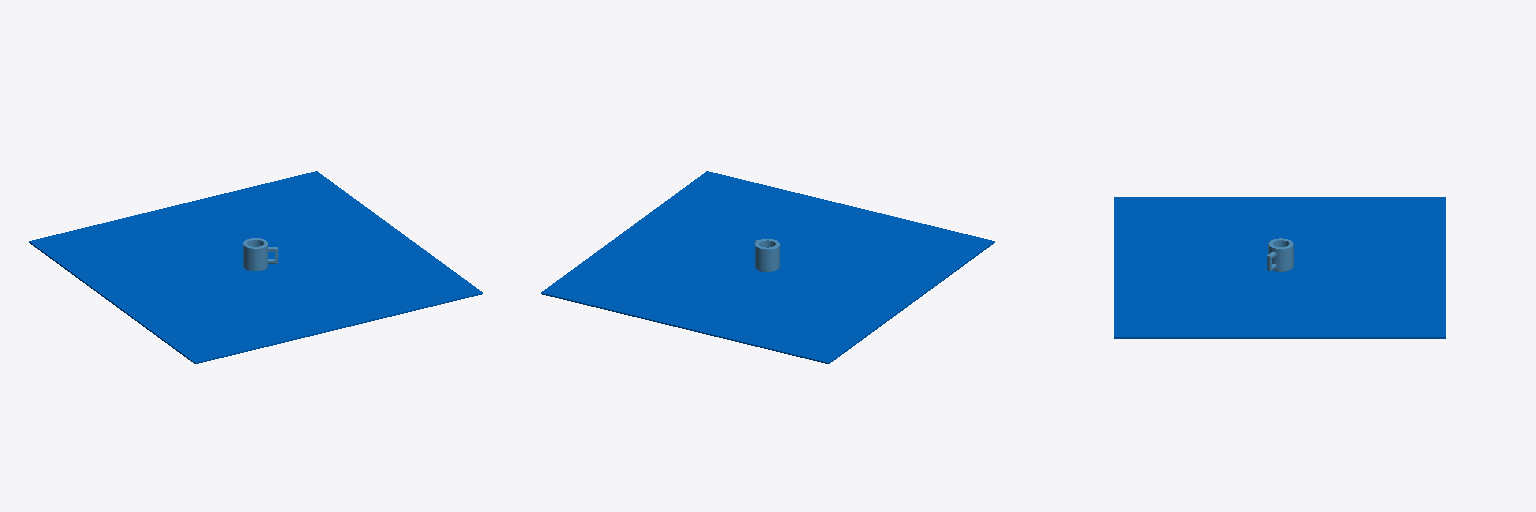
File: Cup.obj
The picture shows the model from 3 angles: view 1: azimuth 30°, elevation 25°; view 2: azimuth 150°, elevation 25°; view 3: azimuth 270°, elevation 25°; orthographic projection.
Parts seen in each view (by area): view 1: Plane, Cylinder.001; view 2: Plane, Cylinder.001; view 3: Plane, Cylinder.001.
Part boxes in pixels (x1,y1,x2,y2): Plane: (29, 171, 482, 363); Cylinder.001: (243, 238, 277, 270); Plane: (541, 171, 994, 363); Cylinder.001: (755, 239, 779, 271); Plane: (1114, 197, 1445, 338); Cylinder.001: (1267, 238, 1293, 271).
Size of the model in its own units: 28.63 by 2.36 by 28.63.